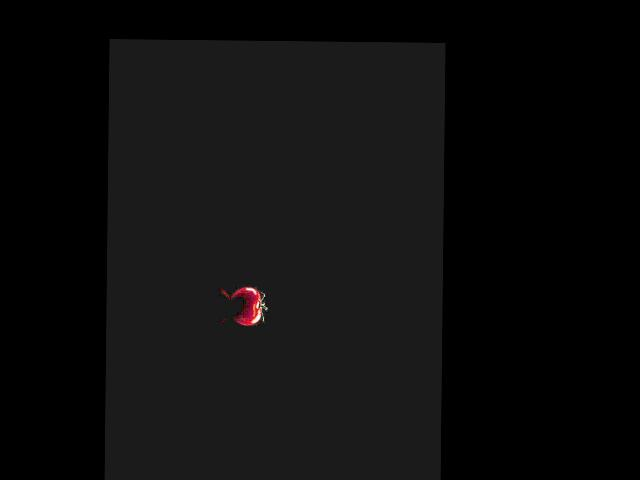tomato: (231, 287, 262, 325)
